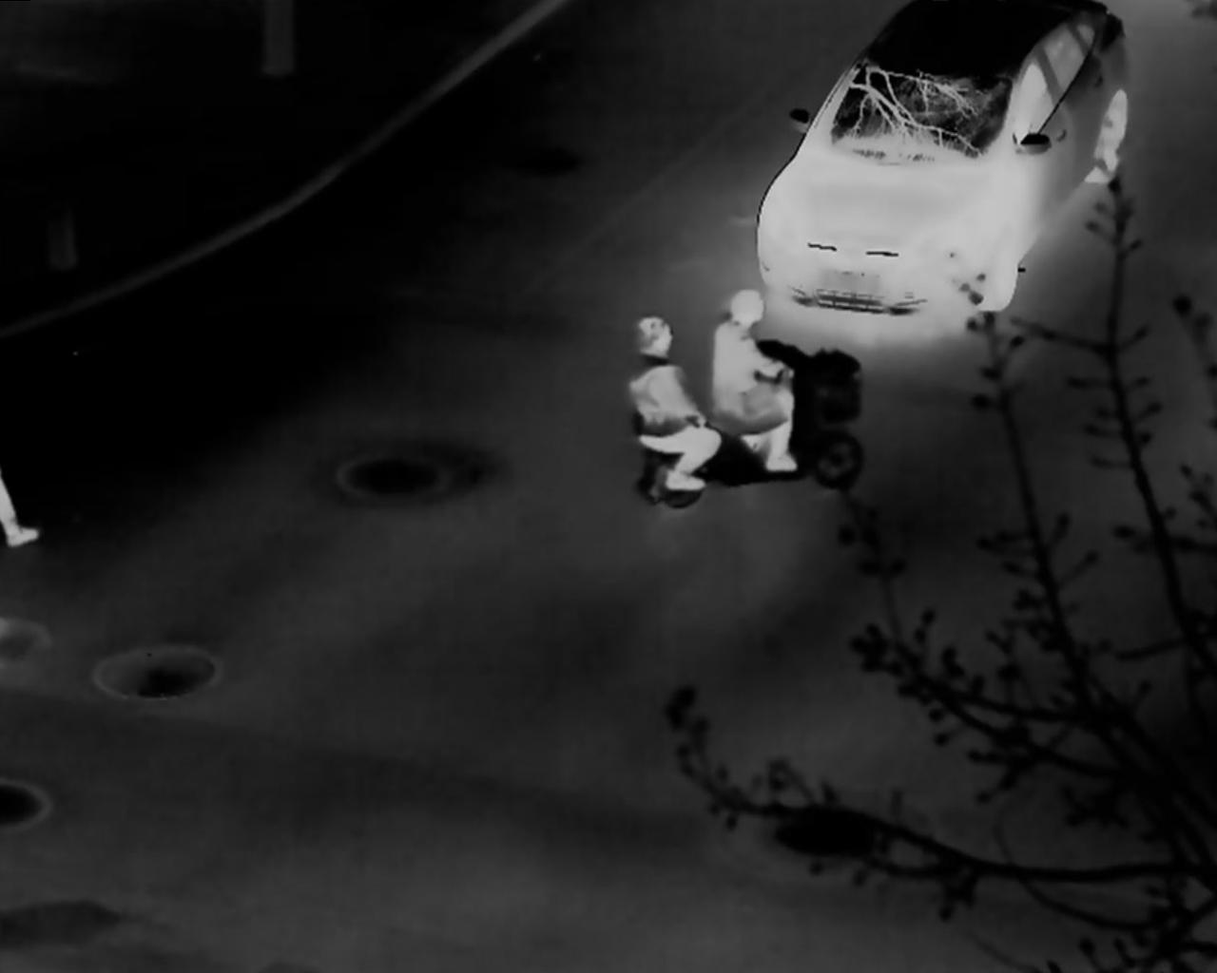person: (629, 315, 722, 493), (711, 287, 799, 474)
